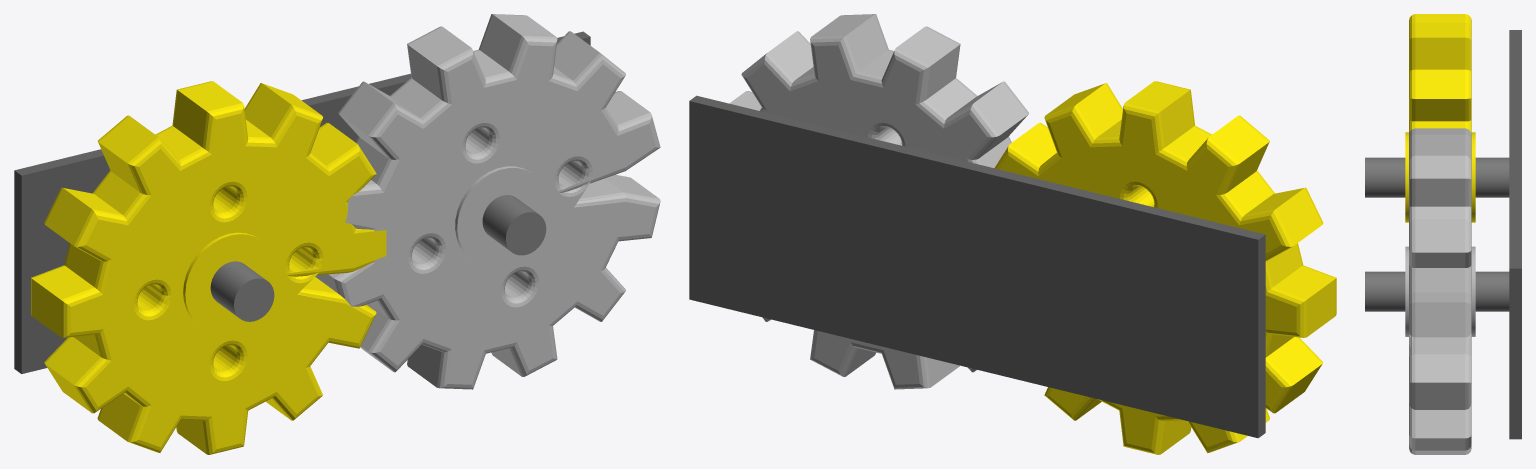
Rendered from gears.gltf.
3 renders of one model, left to right at view 1: azimuth 30°, elevation 25°; view 2: azimuth 150°, elevation 25°; view 3: azimuth 270°, elevation 25°, orthographic. The views are drawn at different scales.
Size of the model in its own units: 4.73 by 2.59 by 1.25.
